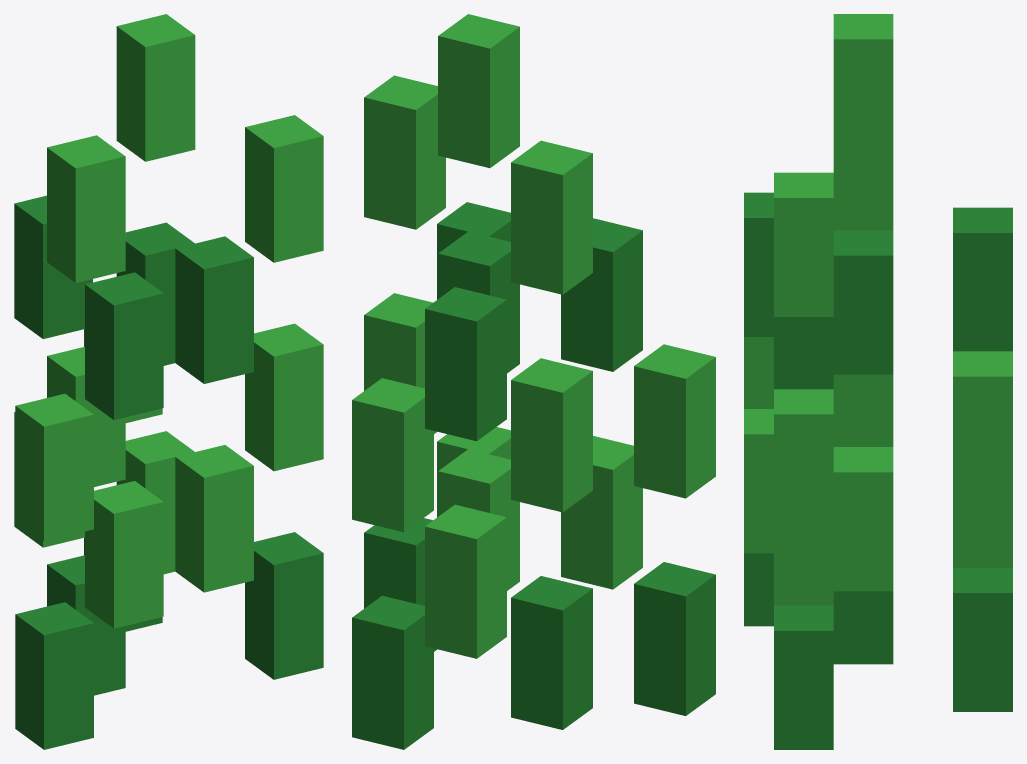
File: Seaweed.glb
3 views of the same model, side by side, from view 1: azimuth 30°, elevation 25°; view 2: azimuth 150°, elevation 25°; view 3: azimuth 270°, elevation 25° (orthographic). The views are drawn at different scales.
Parts seen in each view (by area): view 1: Seaweed; view 2: Seaweed; view 3: Seaweed.
Boxes of the visible parts, left/top/right/bottom form: Seaweed: left=14, top=14, right=323, bottom=749; Seaweed: left=352, top=14, right=715, bottom=749; Seaweed: left=744, top=14, right=1012, bottom=749.
Bounding box in the file's own units: 5.9 × 12.2 × 4.5.
Materials: 1 (1 with a texture image).
